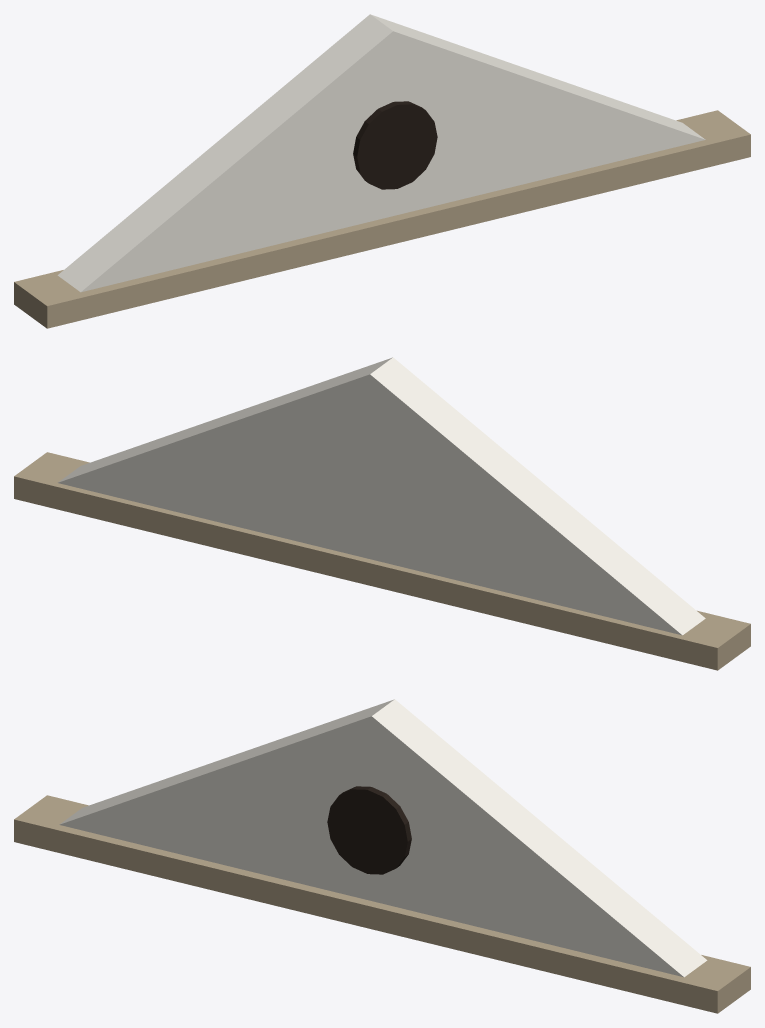
Rendered from frontao.glb.
3 views of the same model, one above another, from view 1: azimuth 30°, elevation 25°; view 2: azimuth 150°, elevation 25°; view 3: azimuth 330°, elevation 25° (orthographic).
Parts seen in each view (by area): view 1: frontao; view 2: frontao; view 3: frontao.
Boxes of the visible parts, x1,y1,x2,y2 form: frontao: [14, 14, 750, 328]; frontao: [14, 357, 750, 670]; frontao: [14, 699, 750, 1013].
Bounding box in the file's own units: 4.9 × 1.38 × 0.4.
